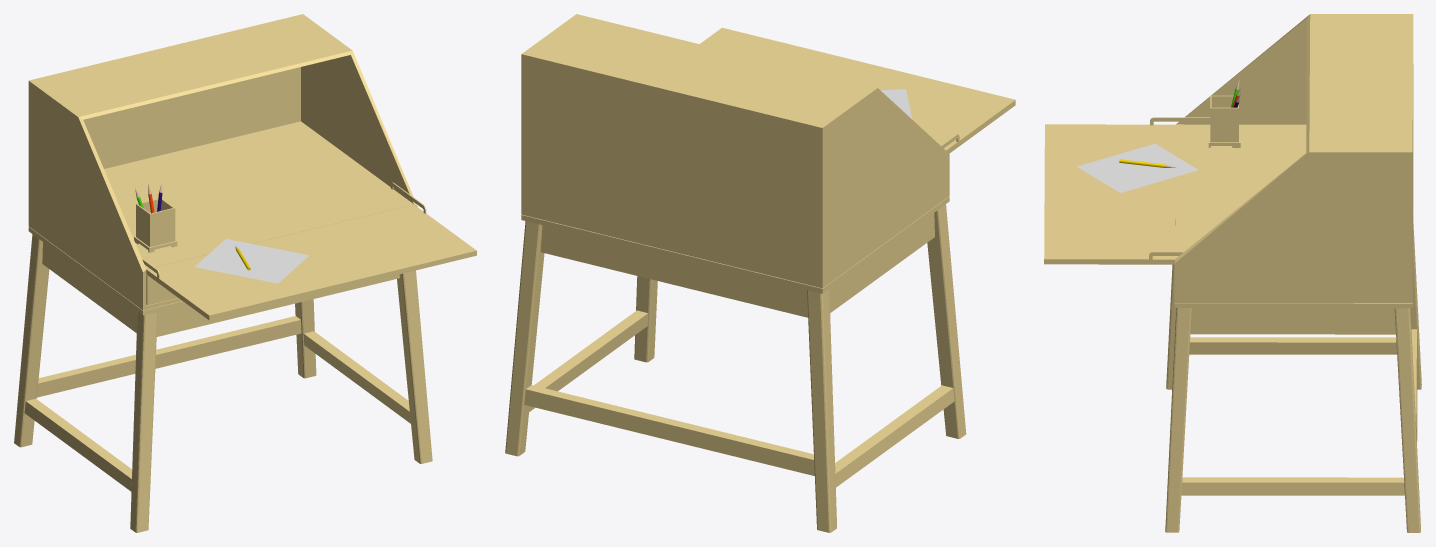
The model's file is IKEA-Alve_Desk-3D.obj.
3 views of the same model, side by side, from view 1: azimuth 30°, elevation 25°; view 2: azimuth 150°, elevation 25°; view 3: azimuth 270°, elevation 25° (orthographic). The views are drawn at different scales.
Parts seen in each view (by area): view 1: Rectangle2, Plane01, Rectangle0; view 2: Rectangle2; view 3: Rectangle2, Plane01, Rectangle0.
Part boxes in pixels (<box>): Rectangle2: <box>14,14,476,532</box>; Plane01: <box>195,239,308,283</box>; Rectangle0: <box>134,199,177,252</box>; Rectangle2: <box>505,14,1015,532</box>; Rectangle2: <box>1044,14,1421,532</box>; Plane01: <box>1077,143,1198,192</box>; Rectangle0: <box>1208,95,1240,147</box>.
Size of the model in its own units: 2197 by 2562 by 2339.
